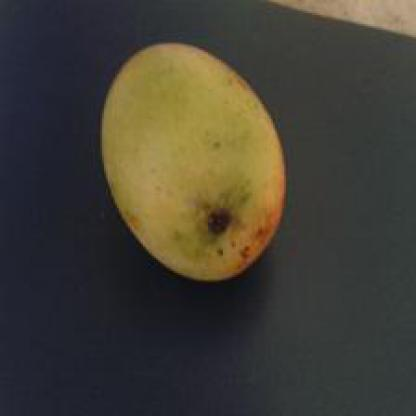mango: (95, 41, 292, 290)
